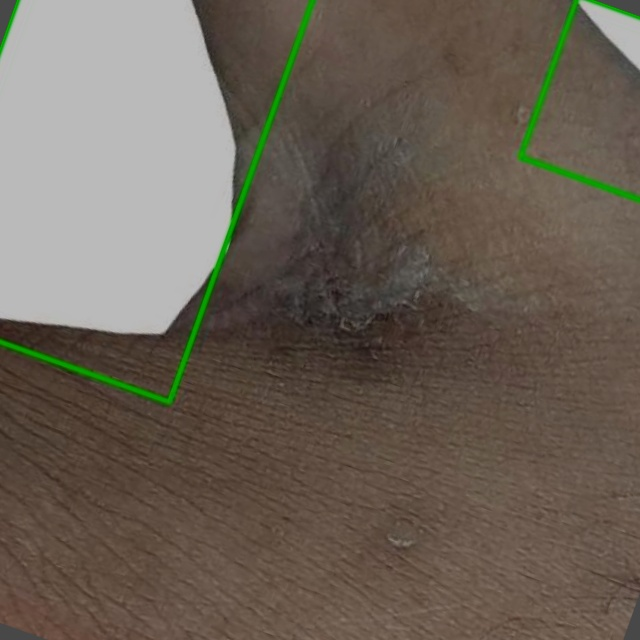Scabies: (0, 0, 312, 401)
